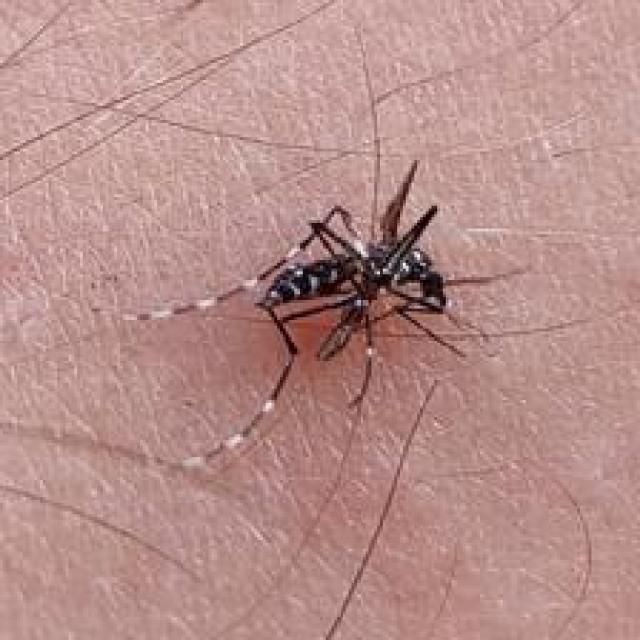Aedes albopictus: (96, 156, 581, 476)
